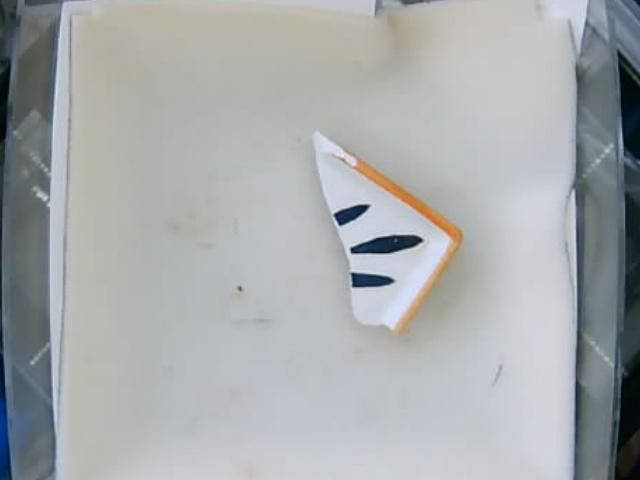China: (308, 129, 462, 329)
